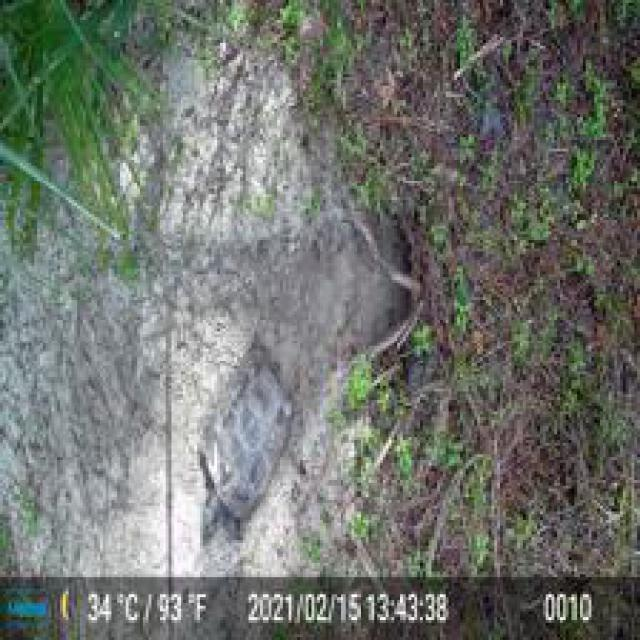tortoise: (194, 348, 294, 552)
